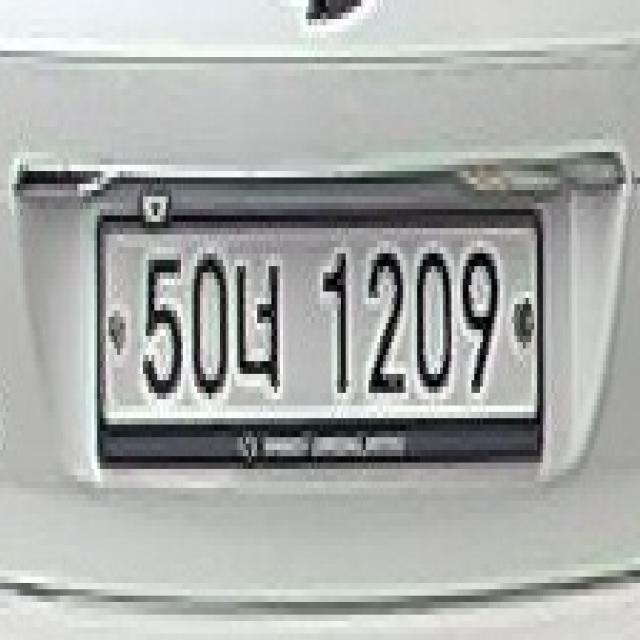0: (188, 245, 230, 405), (416, 245, 454, 401)
1: (320, 242, 354, 394)
2: (365, 246, 408, 401)
5: (143, 248, 186, 402)
9: (461, 243, 507, 400)
license_plate: (91, 205, 549, 480)
neo: (235, 245, 288, 398)
